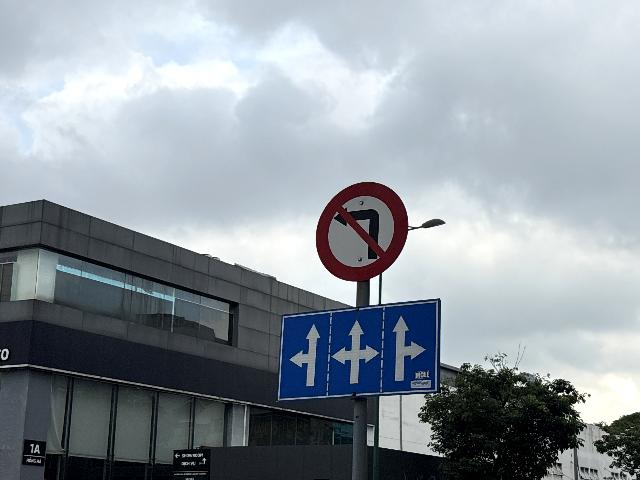cam-re-trai: (315, 181, 408, 281)
